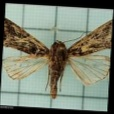Spodoptera litura: (2, 15, 110, 99)
